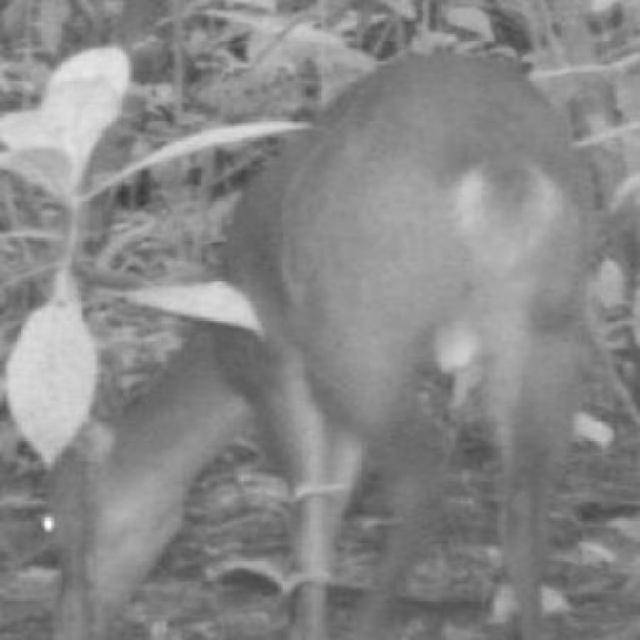Deer: (36, 36, 610, 638)
